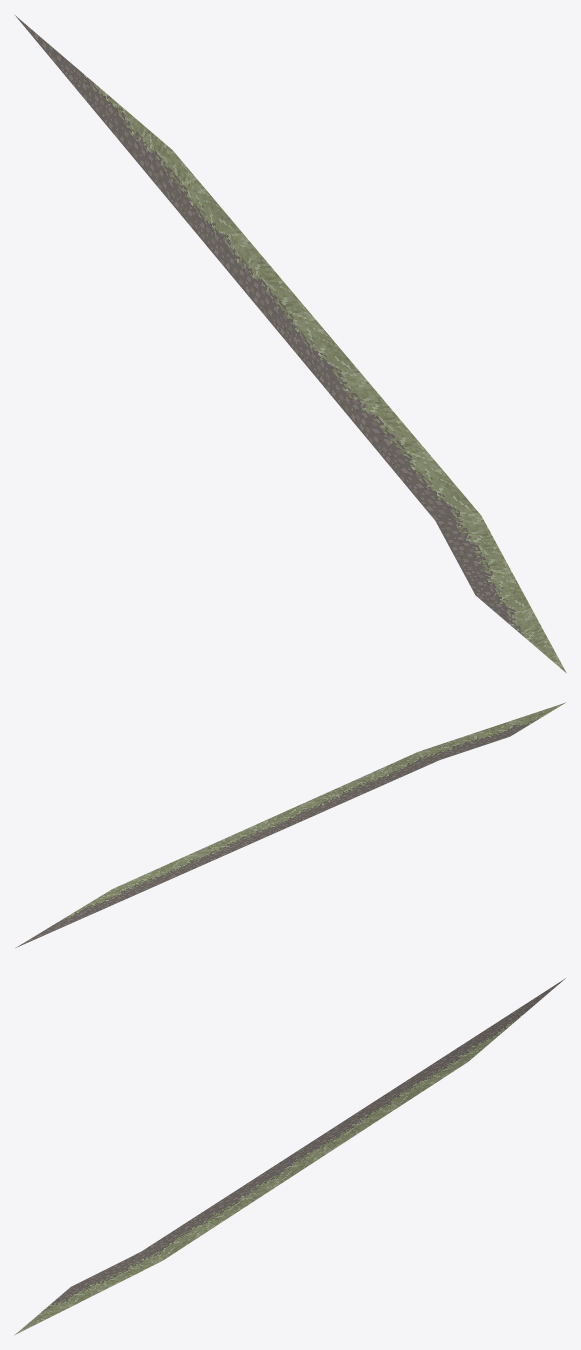
The model's file is kd_stage_135c43_4_148_bounded_piece_1.glb.
The picture shows the model from 3 angles, top to bottom: view 1: azimuth 30°, elevation 25°; view 2: azimuth 150°, elevation 25°; view 3: azimuth 330°, elevation 25°; orthographic projection. The views are drawn at different scales.
Parts seen in each view (by area): view 1: kd_stage_135c43_4_148_bounded_piece_1; view 2: kd_stage_135c43_4_148_bounded_piece_1; view 3: kd_stage_135c43_4_148_bounded_piece_1.
Boxes of the visible parts, left/top/right/bottom form: kd_stage_135c43_4_148_bounded_piece_1: left=15, top=15, right=566, bottom=673; kd_stage_135c43_4_148_bounded_piece_1: left=15, top=702, right=565, bottom=948; kd_stage_135c43_4_148_bounded_piece_1: left=14, top=978, right=565, bottom=1335.
Bounding box in the file's own units: 0.212 × 0.1077 × 1.57.
Materials: 1 (1 with a texture image).
